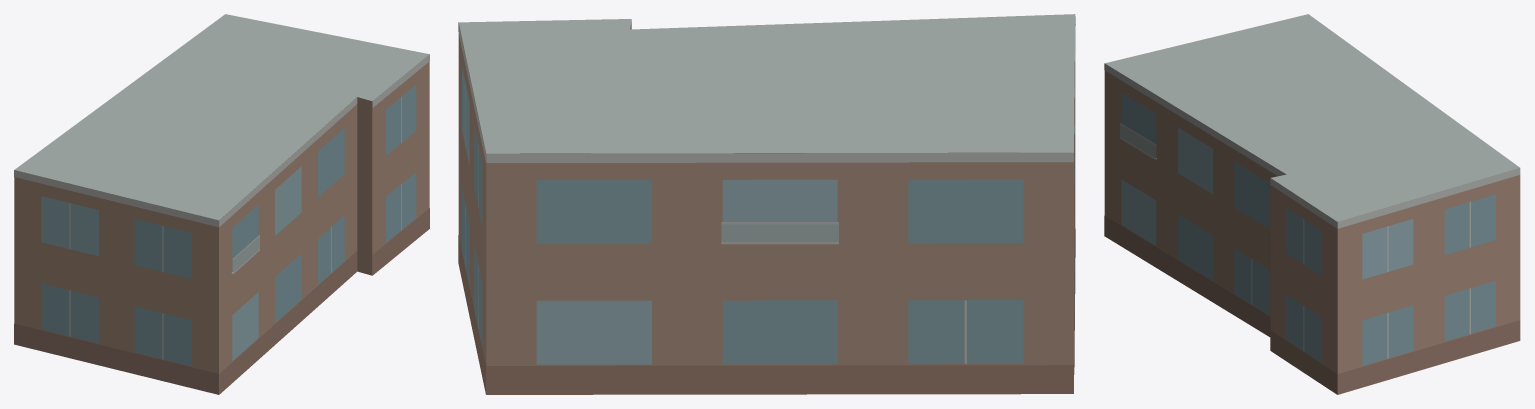
File: survey-upis-32970912.glb
The picture shows the model from 3 angles, left to right: view 1: azimuth 30°, elevation 25°; view 2: azimuth 150°, elevation 25°; view 3: azimuth 270°, elevation 25°; orthographic projection. The views are drawn at different scales.
Parts seen in each view (by area): view 1: survey-upis-32970912.tmp; view 2: survey-upis-32970912.tmp; view 3: survey-upis-32970912.tmp.
Part boxes in pixels (box(x1,y1,x2,y2)): survey-upis-32970912.tmp: box(14, 14, 429, 394); survey-upis-32970912.tmp: box(458, 14, 1075, 394); survey-upis-32970912.tmp: box(1104, 14, 1520, 394).
Bounding box in the file's own units: 15.75 × 6.1 × 13.3.
